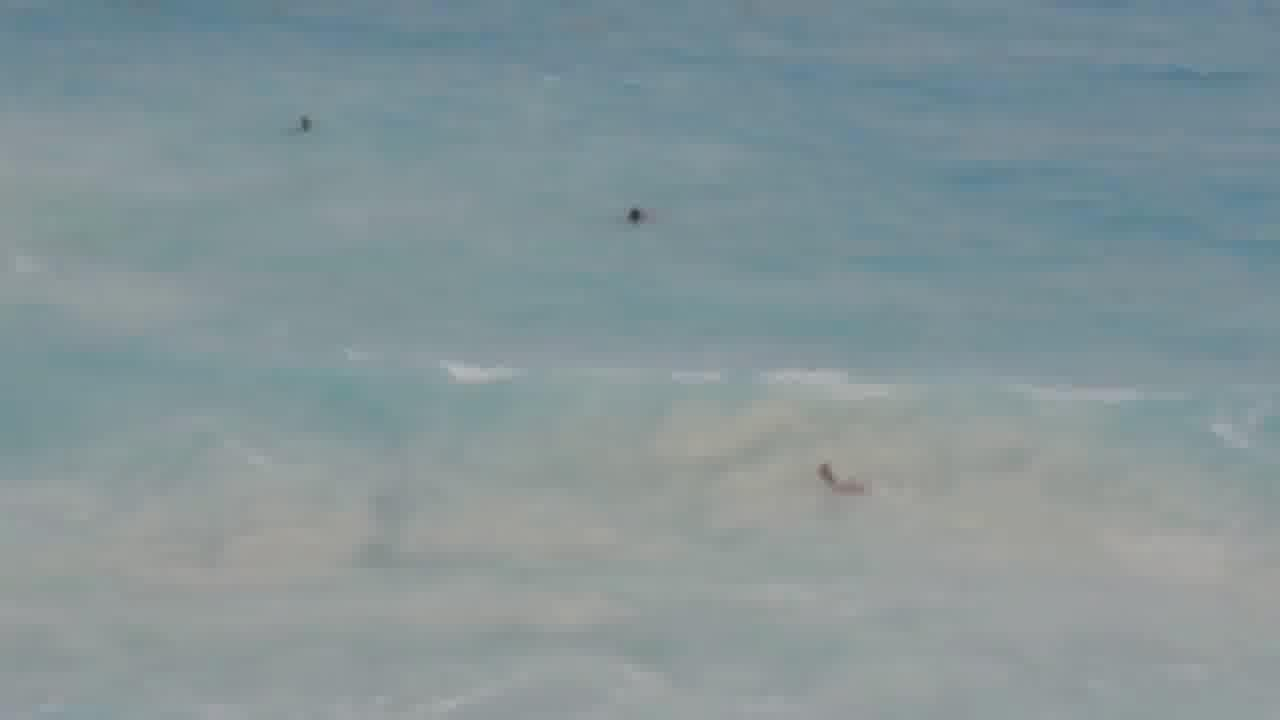swimmer: (812, 451, 877, 518), (285, 103, 338, 155), (603, 194, 657, 234)
